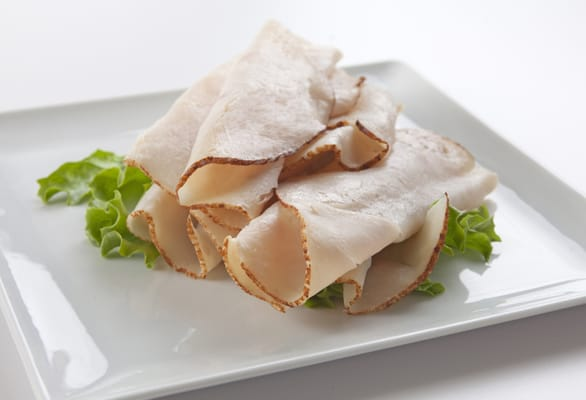soup: (66, 19, 501, 318)
